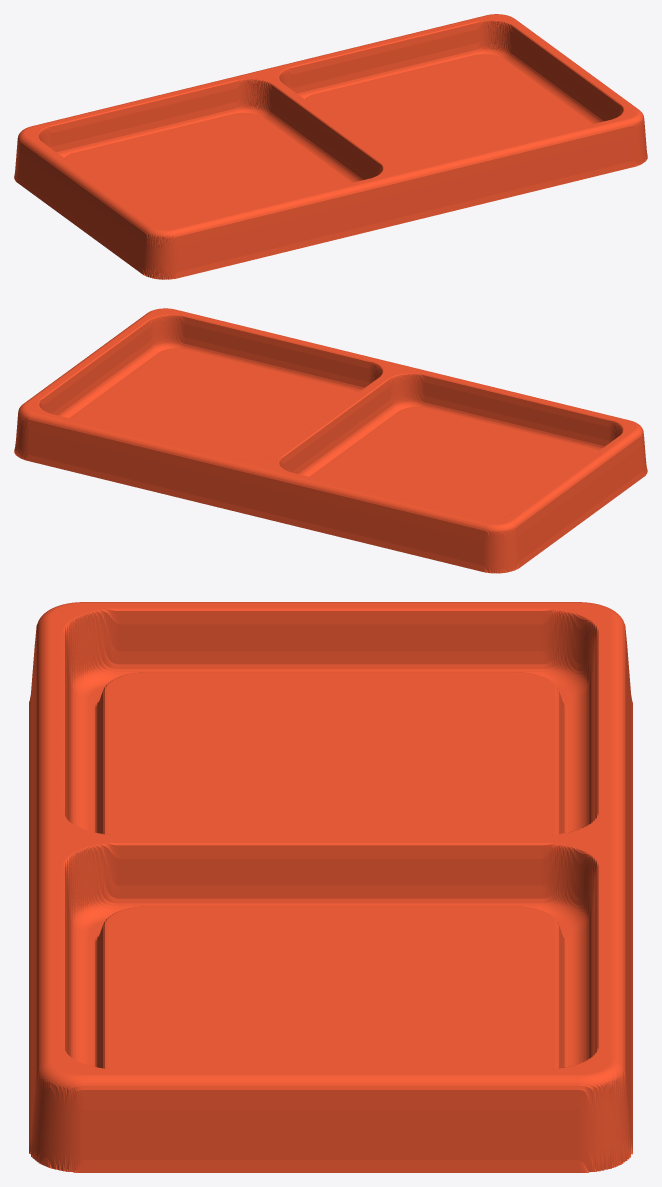
The model's file is mold.glb.
The picture shows the model from 3 angles, top to bottom: view 1: azimuth 30°, elevation 25°; view 2: azimuth 150°, elevation 25°; view 3: azimuth 270°, elevation 25°; orthographic projection. The views are drawn at different scales.
Visible parts, largest first — view 1: geometry_0; view 2: geometry_0; view 3: geometry_0.
Boxes of the visible parts, x1,y1,x2,y2 form: geometry_0: (14,14,647,279); geometry_0: (14,308,647,573); geometry_0: (29,602,632,1172).
Bounding box in the file's own units: 0.1946 × 0.0165 × 0.1015.
